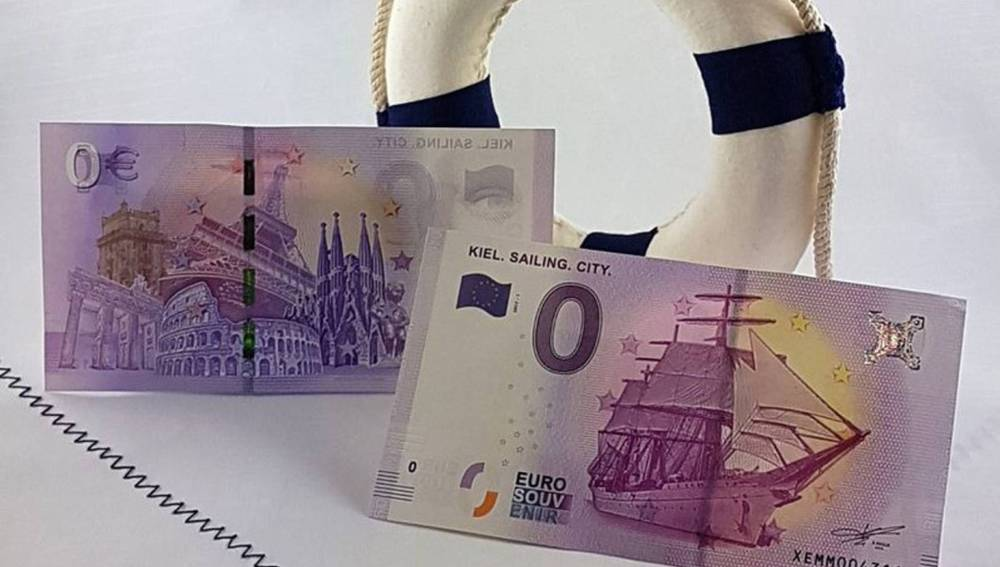billete: (363, 227, 971, 567), (36, 121, 558, 400)
